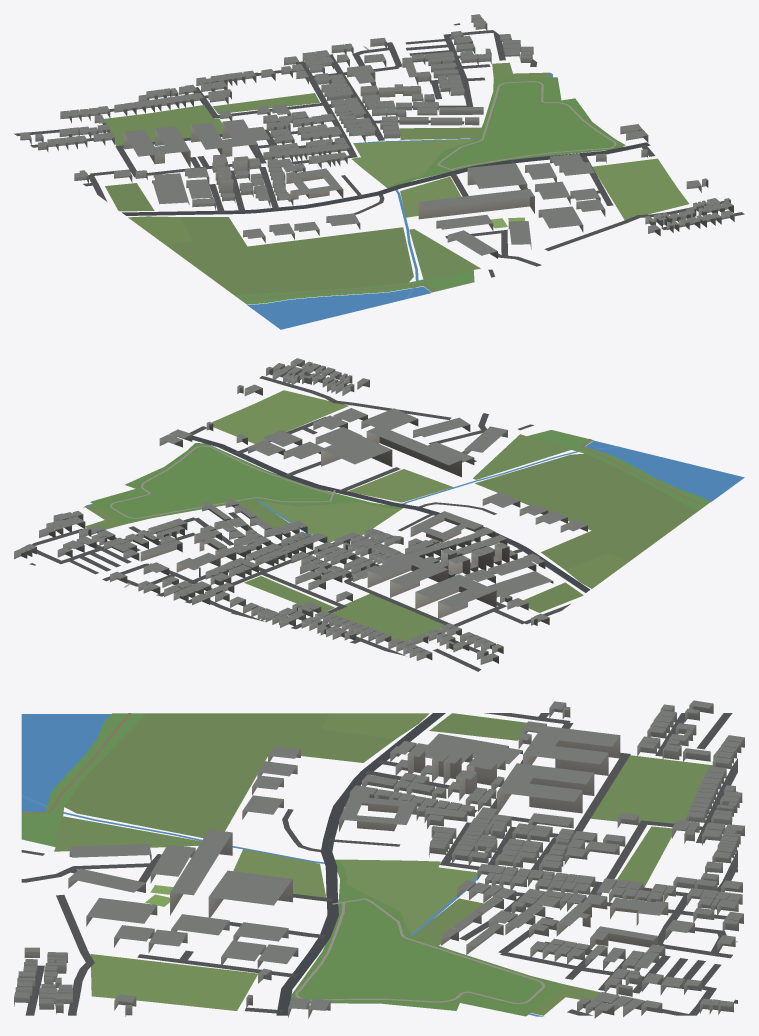
The picture shows the model from 3 angles, top to bottom: view 1: azimuth 30°, elevation 25°; view 2: azimuth 150°, elevation 25°; view 3: azimuth 270°, elevation 25°; orthographic projection. The views are drawn at different scales.
Visible parts, largest first — view 1: ground, building, water; view 2: ground, building, water; view 3: ground, building, water.
Boxes of the visible parts, x1,y1,x2,y2 form: ground: (14,23,744,304); building: (20,14,734,258); water: (247,72,552,329); ground: (29,366,710,671); building: (14,358,587,664); water: (83,440,744,542); ground: (21,713,737,1016); building: (14,700,744,1018); water: (21,714,543,1016).
Size of the model in its own units: 513 by 18 by 510.
